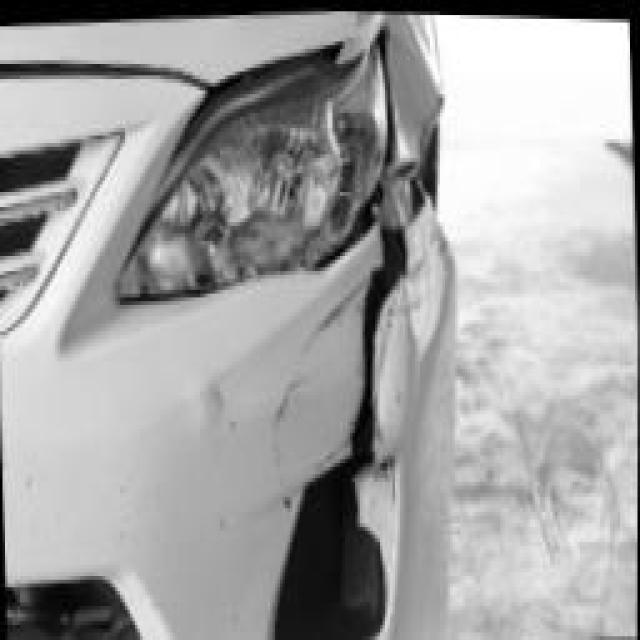Bumper: (166, 191, 470, 640)
Fender: (386, 10, 448, 220)
Light: (116, 43, 386, 292)
